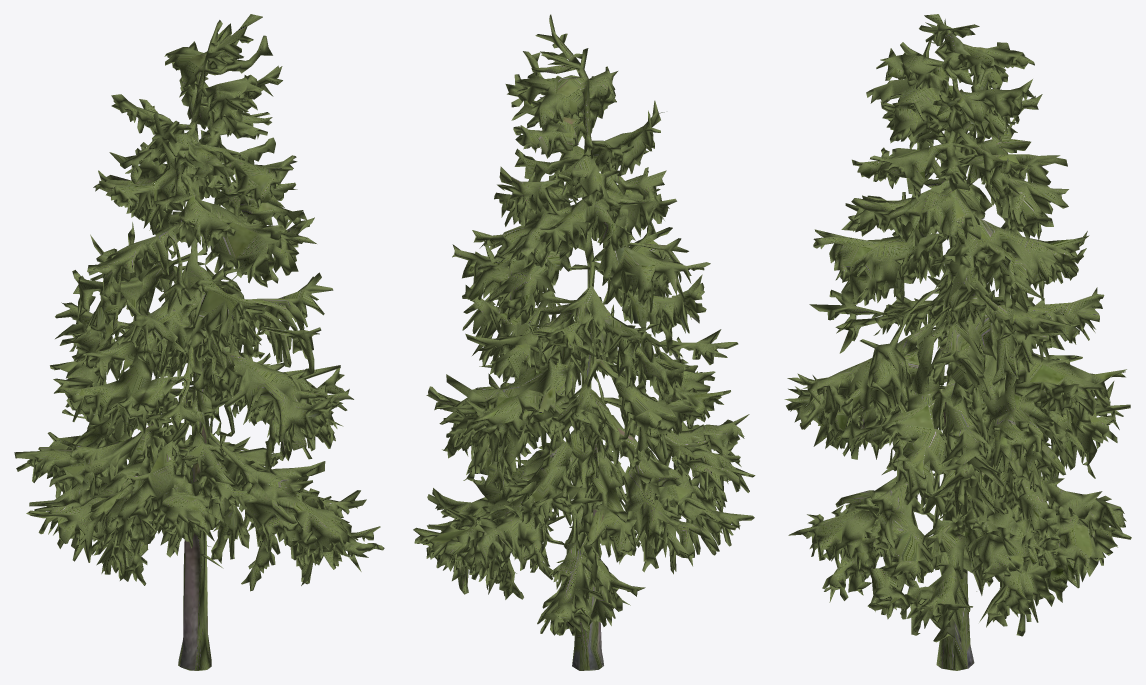
Rendered from abies-fabri-l0.glb.
3 views of the same model, side by side, from view 1: azimuth 30°, elevation 25°; view 2: azimuth 150°, elevation 25°; view 3: azimuth 270°, elevation 25° (orthographic). The views are drawn at different scales.
Parts seen in each view (by area): view 1: geometry_0; view 2: geometry_0; view 3: geometry_0.
Part boxes in pixels (box(x1,y1,x2,y2)): geometry_0: box(14, 14, 384, 670); geometry_0: box(413, 14, 755, 670); geometry_0: box(784, 14, 1131, 670).
Size of the model in its own units: 4.23 by 7.99 by 3.73.
1 material, 1 textured.
